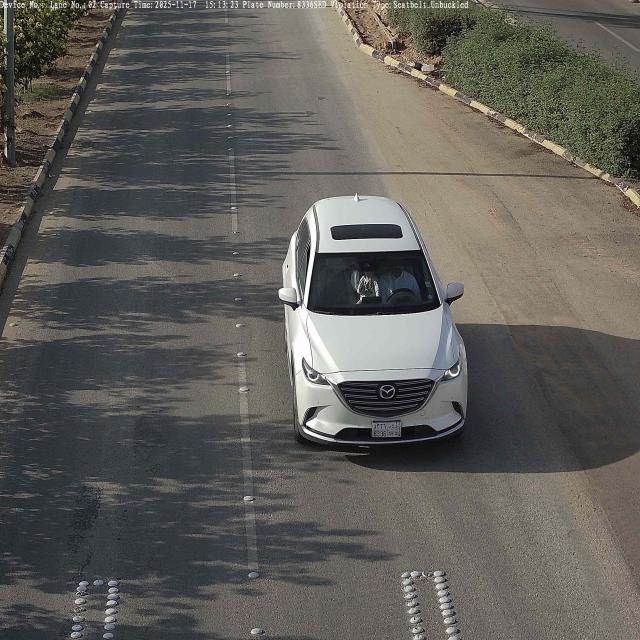person_without_seatbelt: (378, 257, 421, 300)
